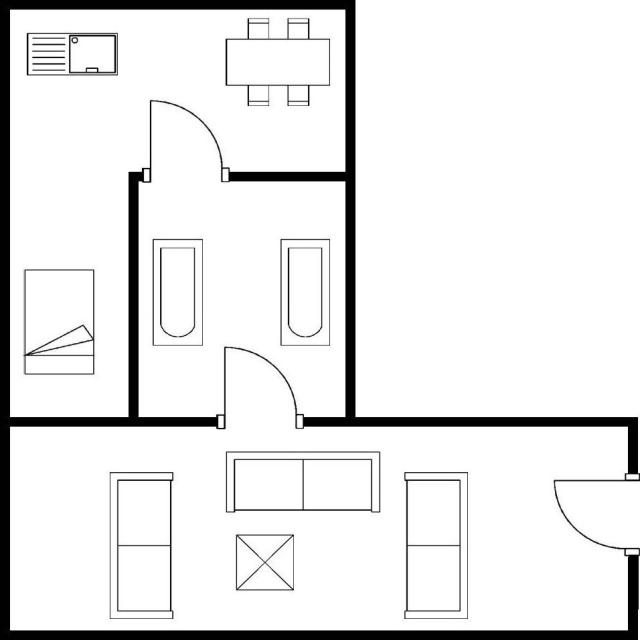bed: (21, 266, 98, 378)
coffee_table: (233, 532, 297, 594)
dining_table: (220, 13, 334, 110)
large_sofa: (398, 468, 472, 624), (222, 447, 384, 517), (104, 466, 176, 622)
sink: (24, 29, 120, 78)
tub: (275, 235, 334, 352), (148, 235, 206, 349)
